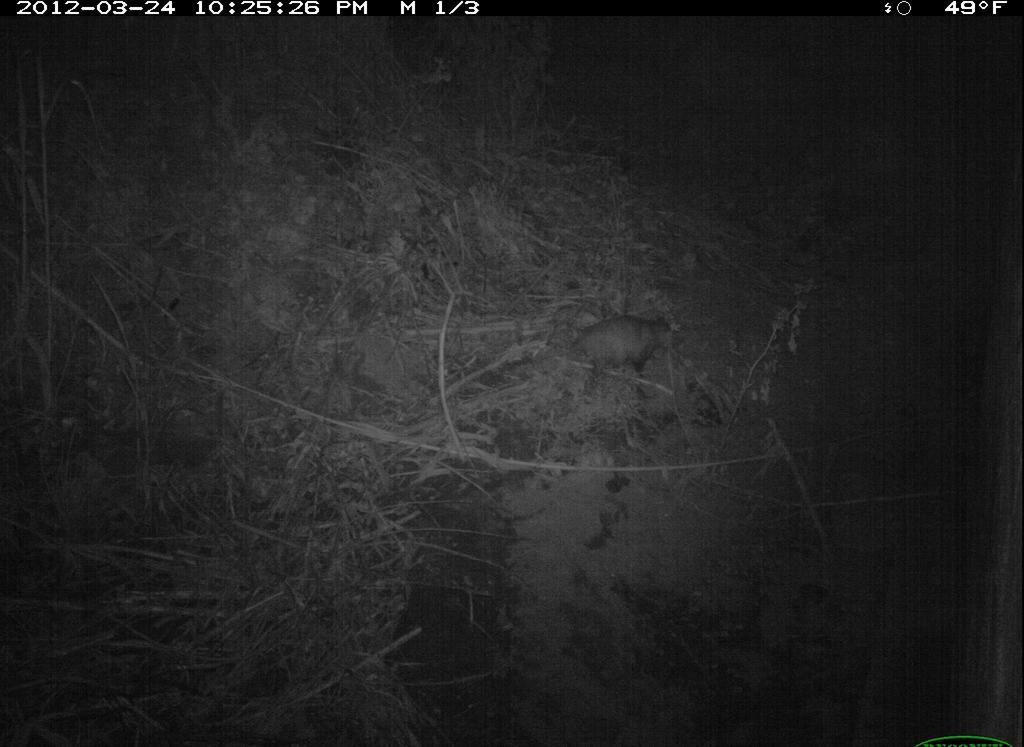opossum: (556, 314, 671, 399)
